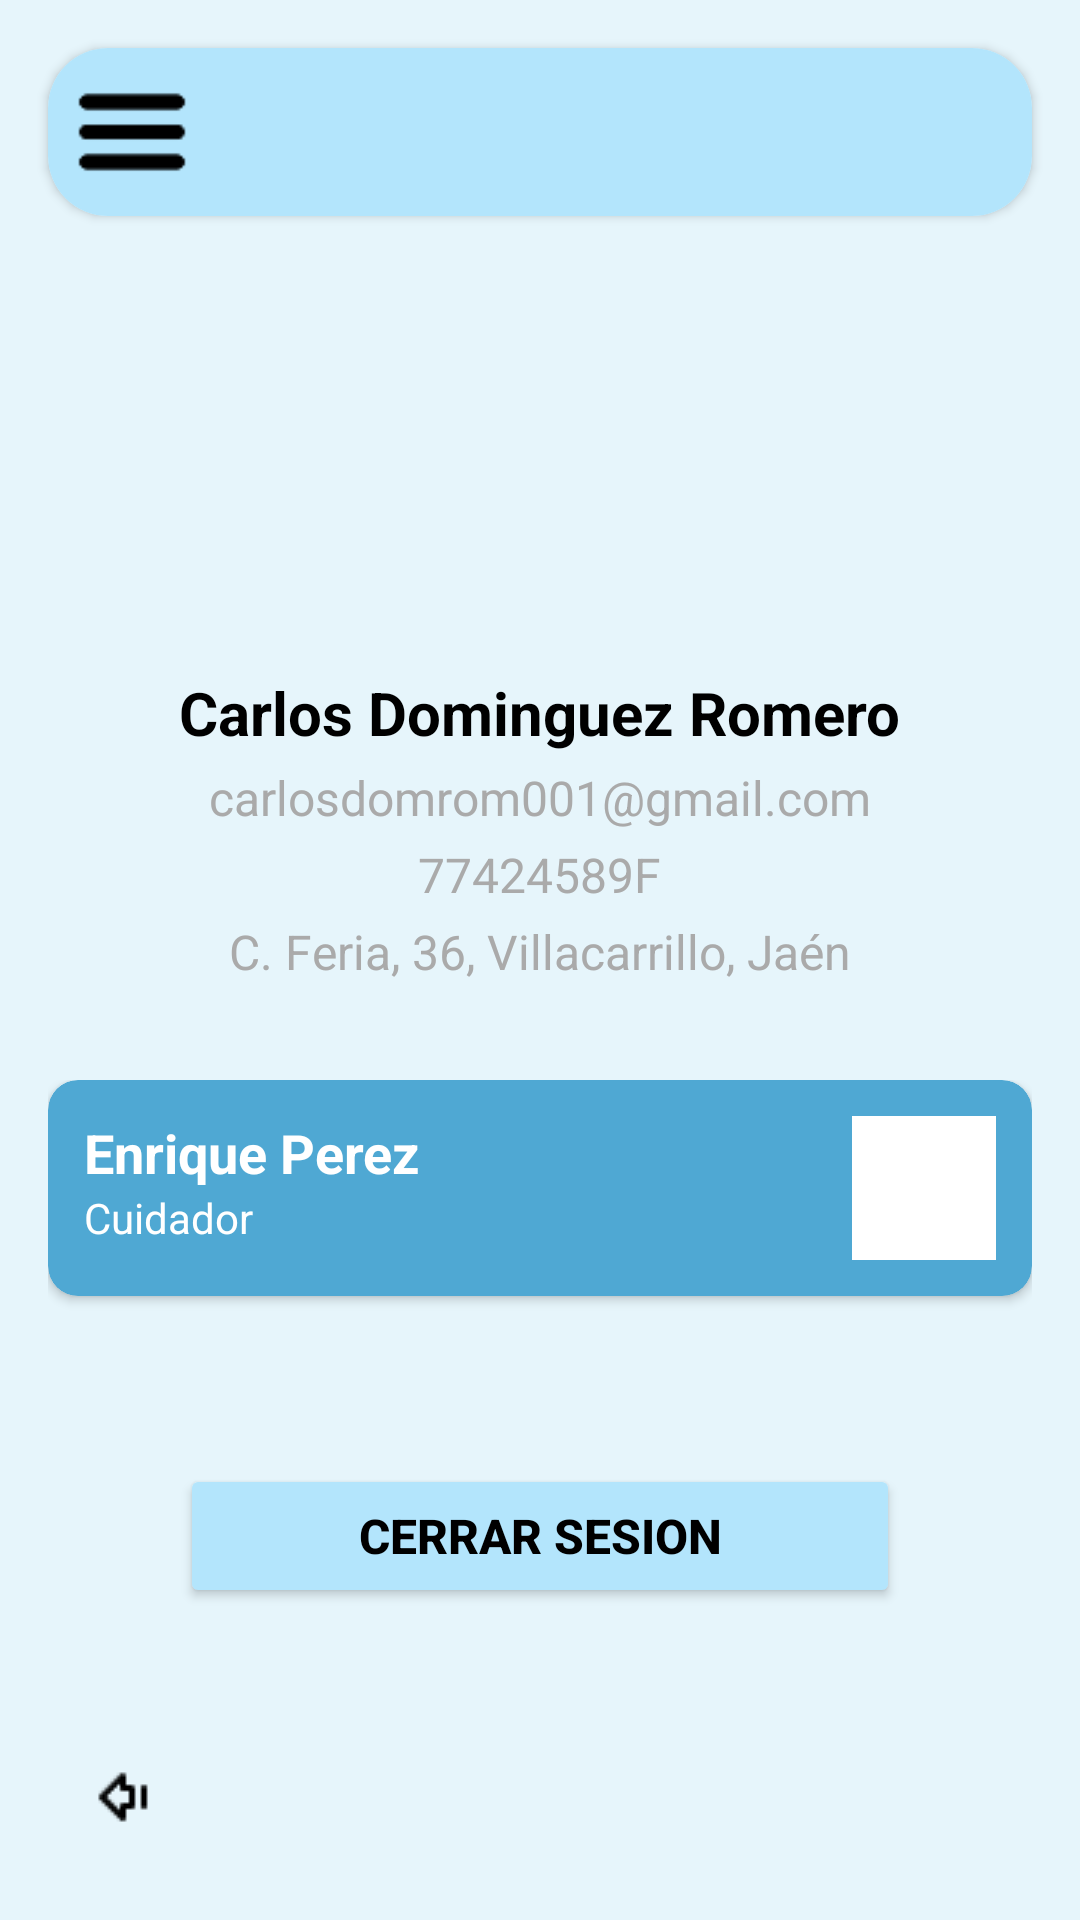

Named icons in this screenshot (1080px×1920px) and their centers, (x=x, y=y):
back: (x=123, y=1797)
barras: (x=132, y=132)
